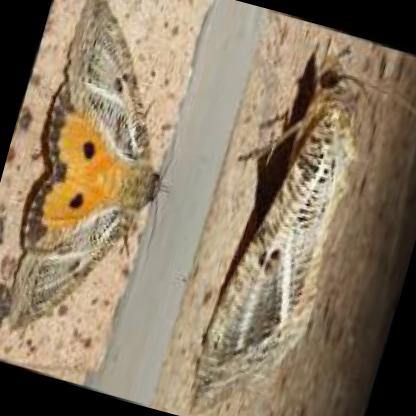fruit sucking moth: (8, 0, 158, 328)
